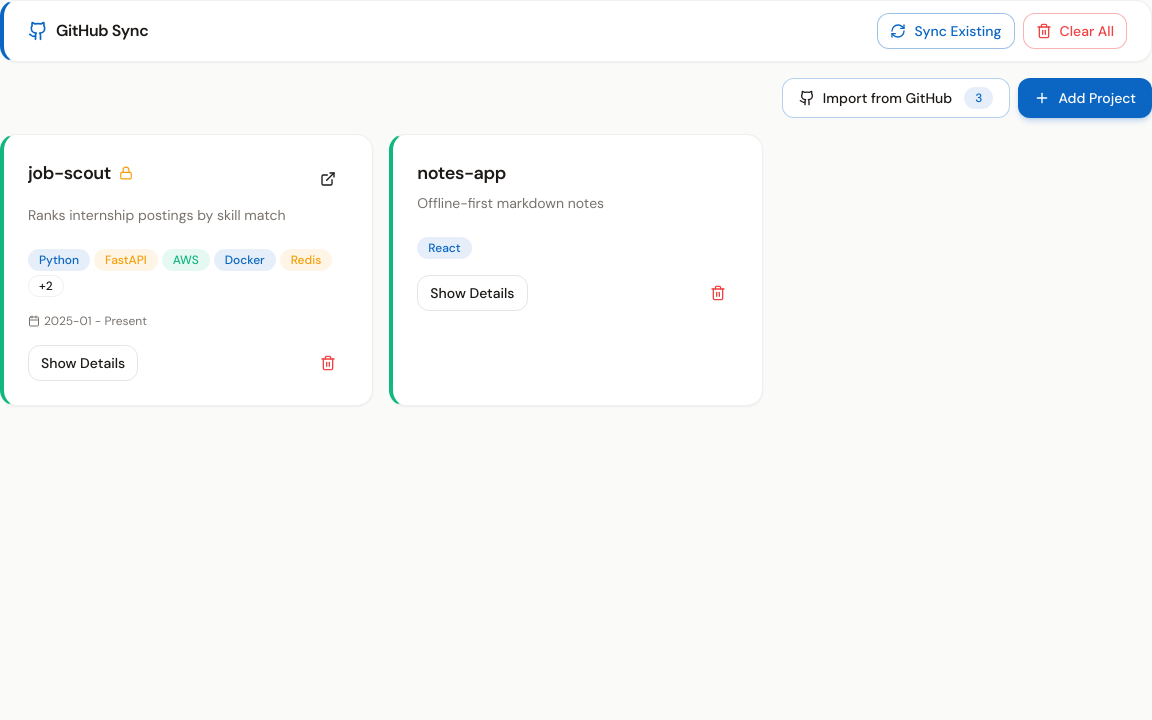
it: ProjectsList › opens the details modal for a project
The image size is (1152, 720).
Expected: the heading "job-scout" is shown, [28,159,111,187]
What coordinates should you click on to do the following:
click the button "Show Details" below "2025-01"
I would click on:
 (83, 363)
Its box is [28,345,138,381].
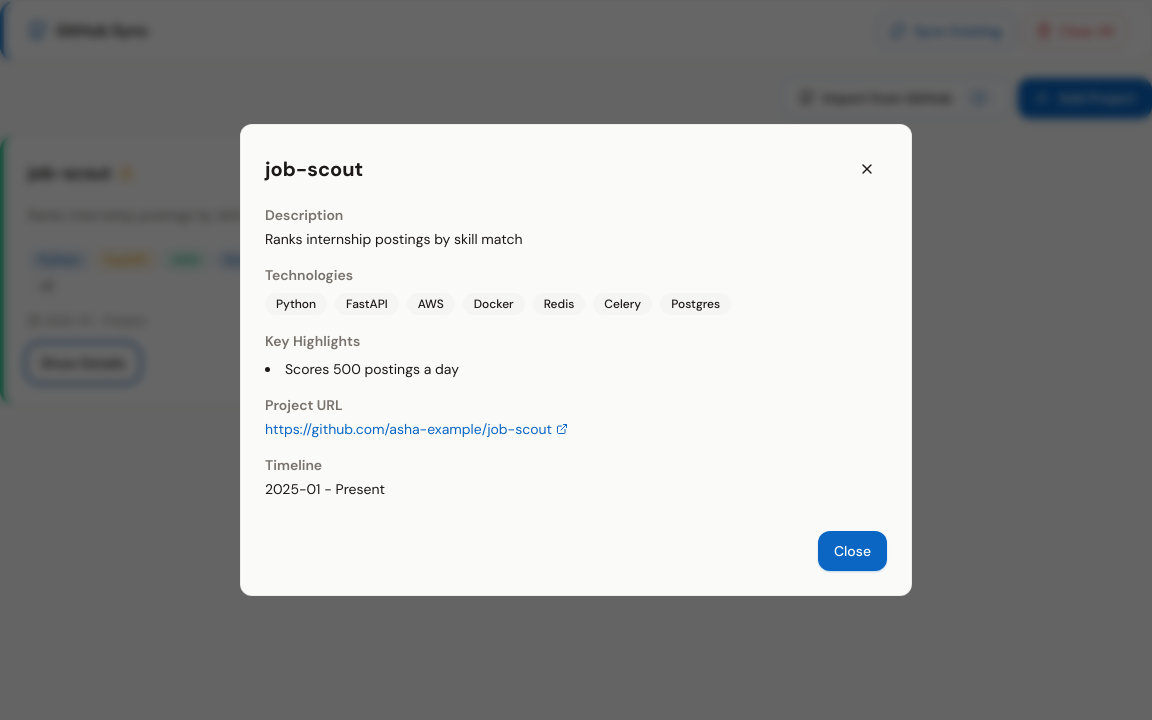
Now the heading "job-scout" is shown, box [265,155,363,183]
Now the list item "Scores 500 postings a day" is shown, box [285,360,459,378]
